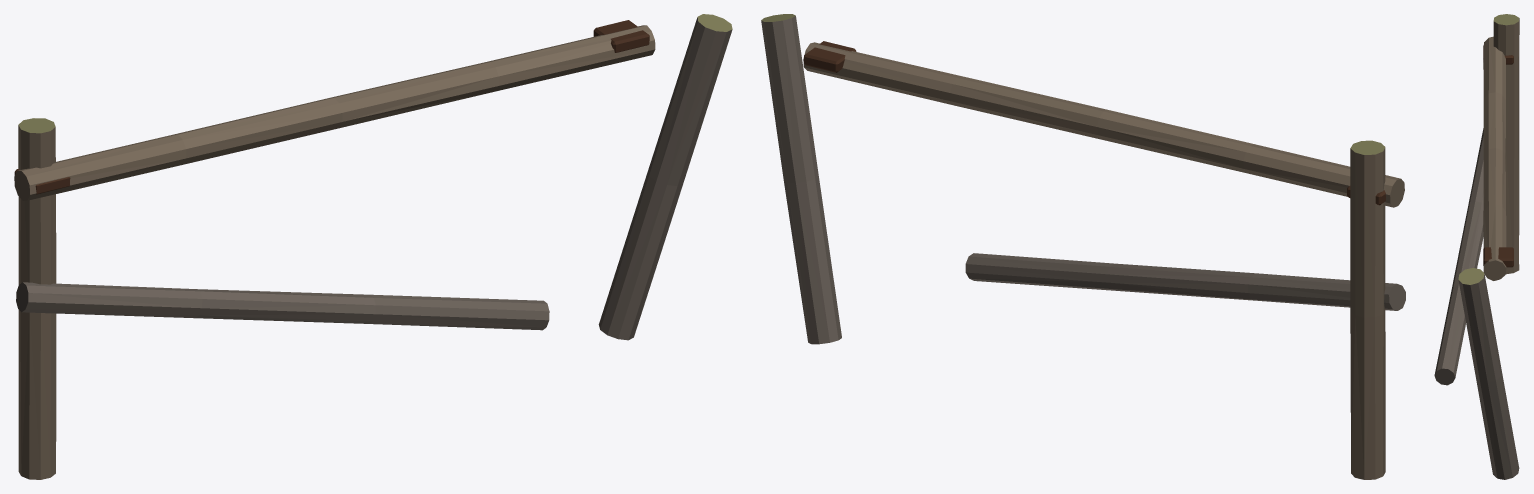
Rendered from fence-broken.glb.
3 views of the same model, side by side, from view 1: azimuth 30°, elevation 25°; view 2: azimuth 150°, elevation 25°; view 3: azimuth 270°, elevation 25° (orthographic). The views are drawn at different scales.
Visible parts, largest first — view 1: fence-broken; view 2: fence-broken; view 3: fence-broken.
Part boxes in pixels (x1,y1,x2,y2): fence-broken: (14, 14, 732, 479); fence-broken: (761, 14, 1405, 479); fence-broken: (1434, 14, 1519, 479).
Bounding box in the file's own units: 3 × 1.45 × 0.4428.
